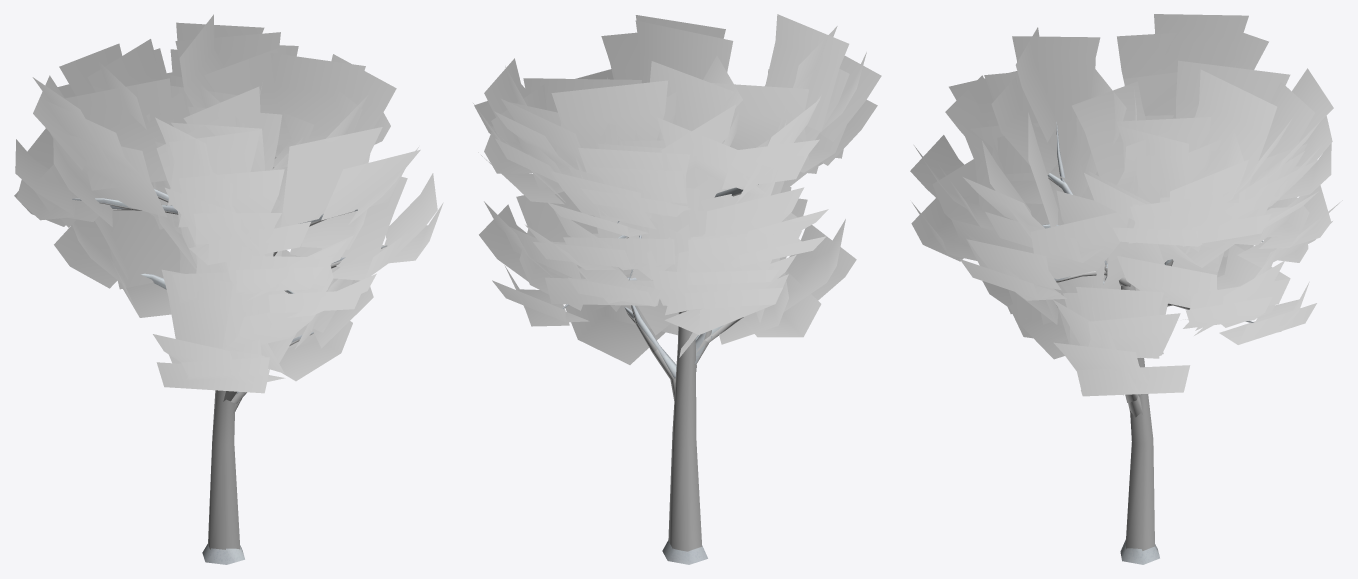
File: Tree_Medium_5_Tall_Snow.fbx
The picture shows the model from 3 angles, left to right: view 1: azimuth 30°, elevation 25°; view 2: azimuth 150°, elevation 25°; view 3: azimuth 270°, elevation 25°; orthographic projection. The views are drawn at different scales.
Visible parts, largest first — view 1: Tree_Medium_5_Snow_LOD0, Tree_Medium_5_Snow_Colider; view 2: Tree_Medium_5_Snow_LOD0, Tree_Medium_5_Snow_Colider; view 3: Tree_Medium_5_Snow_LOD0, Tree_Medium_5_Snow_Colider.
Boxes of the visible parts, x1,y1,x2,y2 form: Tree_Medium_5_Snow_LOD0: [14, 14, 443, 564]; Tree_Medium_5_Snow_Colider: [208, 390, 246, 549]; Tree_Medium_5_Snow_LOD0: [473, 14, 881, 564]; Tree_Medium_5_Snow_Colider: [636, 312, 702, 551]; Tree_Medium_5_Snow_LOD0: [910, 14, 1342, 564]; Tree_Medium_5_Snow_Colider: [1125, 358, 1154, 550].
Size of what is drawn, in the model's own units: 1668 by 2211 by 1813.
